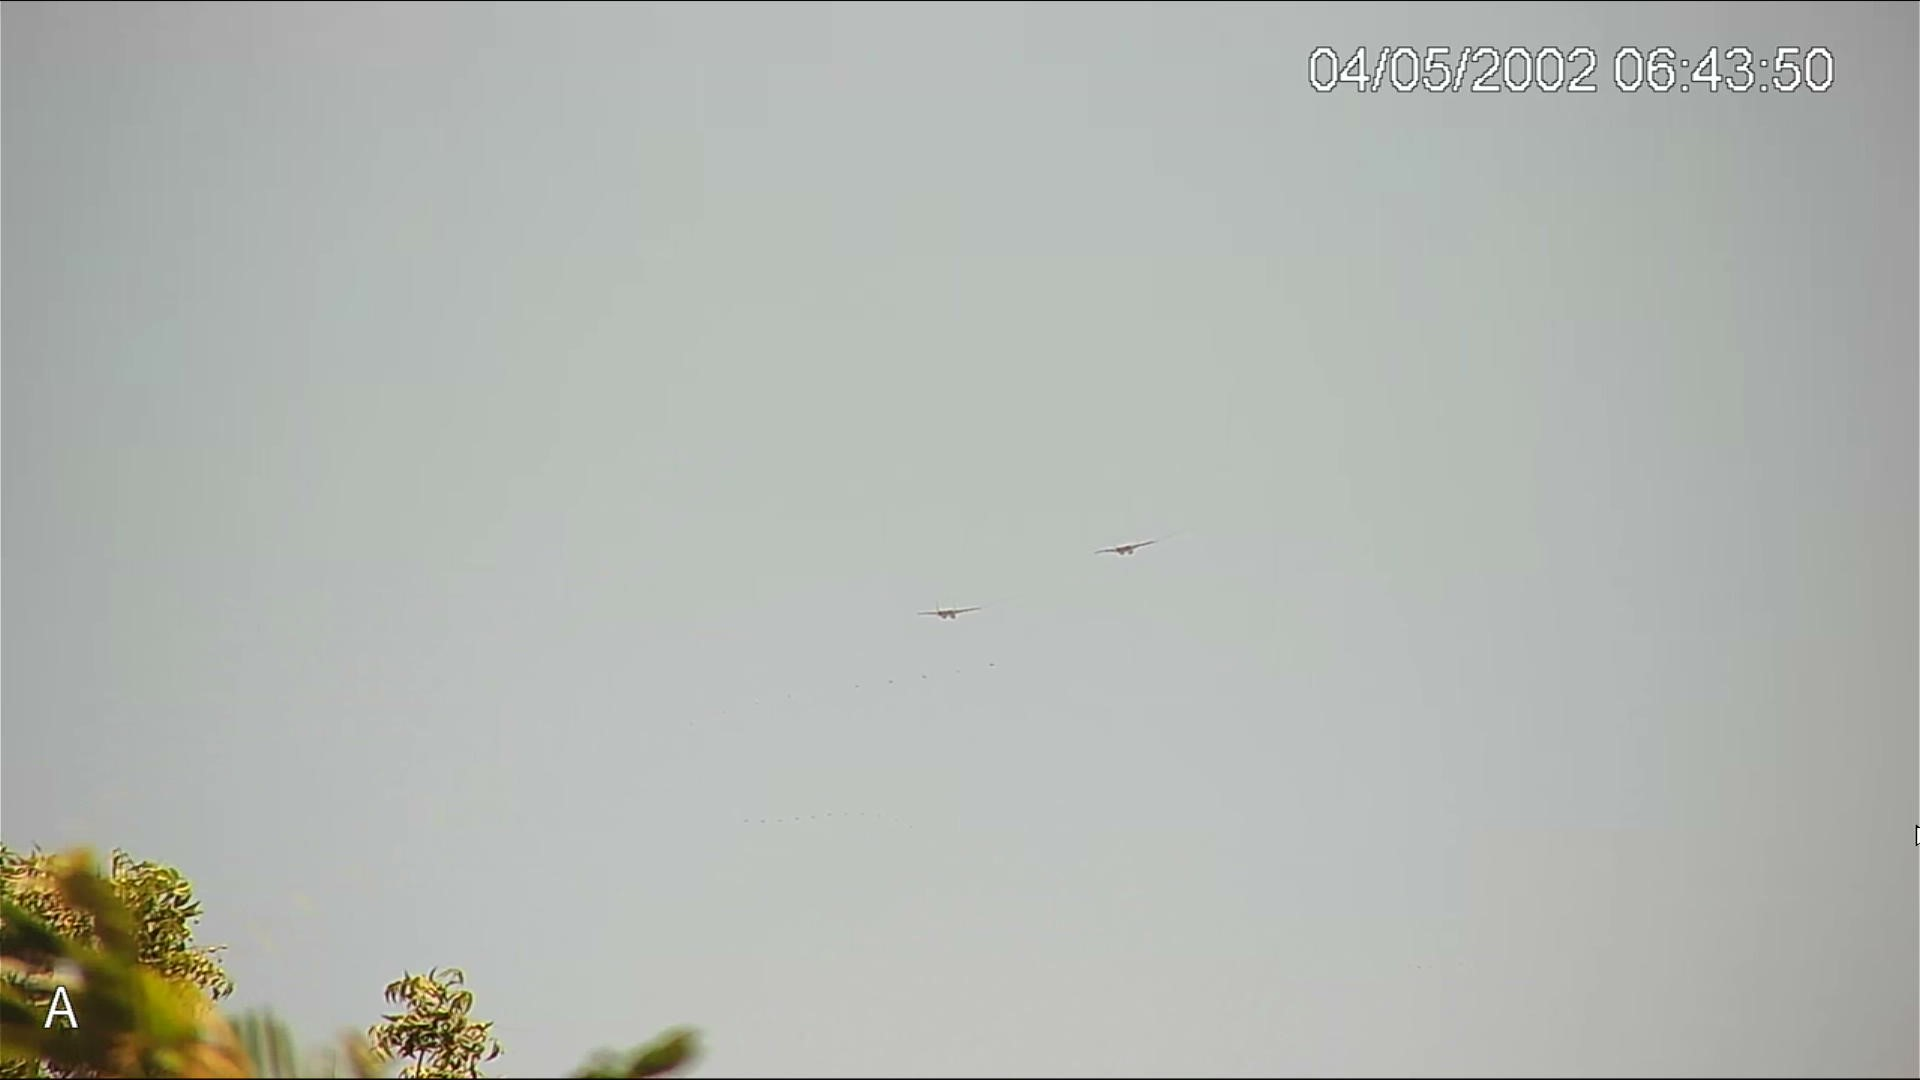SU_30: (916, 603, 985, 626), (1095, 539, 1156, 560)
